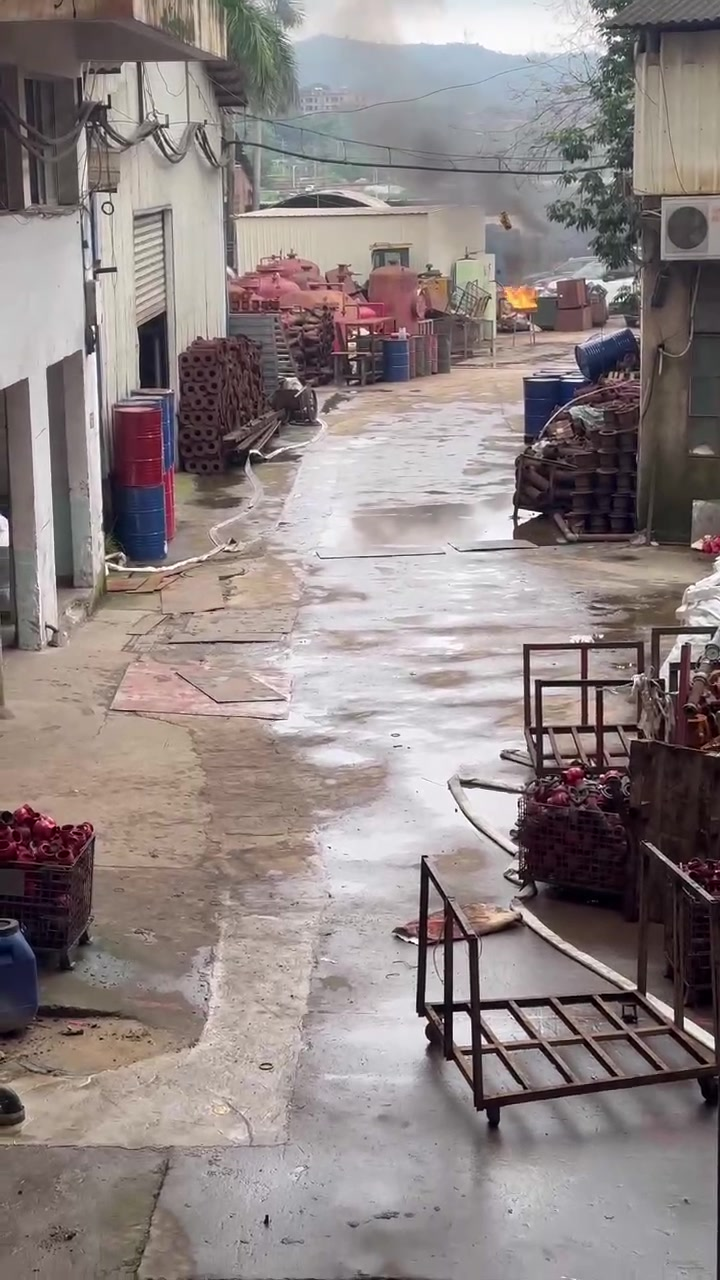fire: (503, 284, 536, 307)
